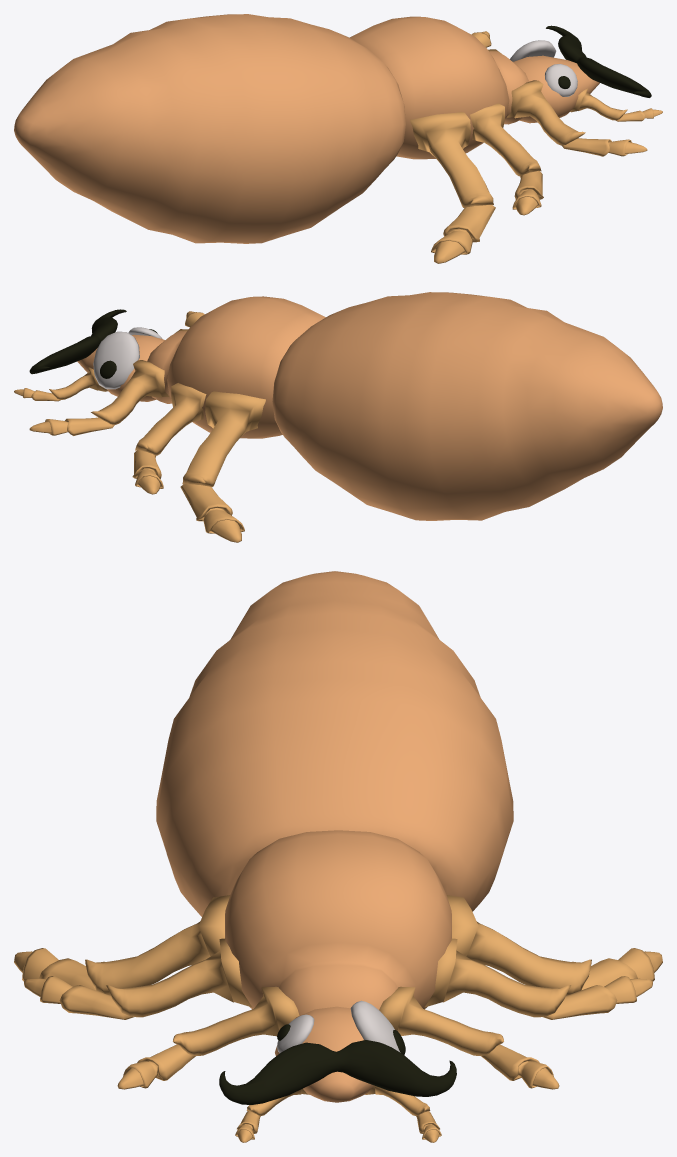
Rendered from Piolho (1).fbx.
3 views of the same model, one above another, from view 1: azimuth 30°, elevation 25°; view 2: azimuth 150°, elevation 25°; view 3: azimuth 270°, elevation 25° (orthographic). The views are drawn at different scales.
Visible parts, largest first — view 1: Corpo, Moustache, Olhos; view 2: Corpo, Olhos, Moustache; view 3: Corpo, Moustache, Olhos.
Boxes of the visible parts, x1,y1,x2,y2 form: Corpo: (14,14,662,263); Moustache: (546,25,651,97); Olhos: (510,40,577,96); Corpo: (14,292,662,542); Olhos: (93,327,162,389); Moustache: (29,309,126,374); Corpo: (14,571,662,1142); Moustache: (219,1040,456,1104); Olhos: (277,1000,405,1055).
Bounding box in the file's own units: 2468 × 798 × 1646.
